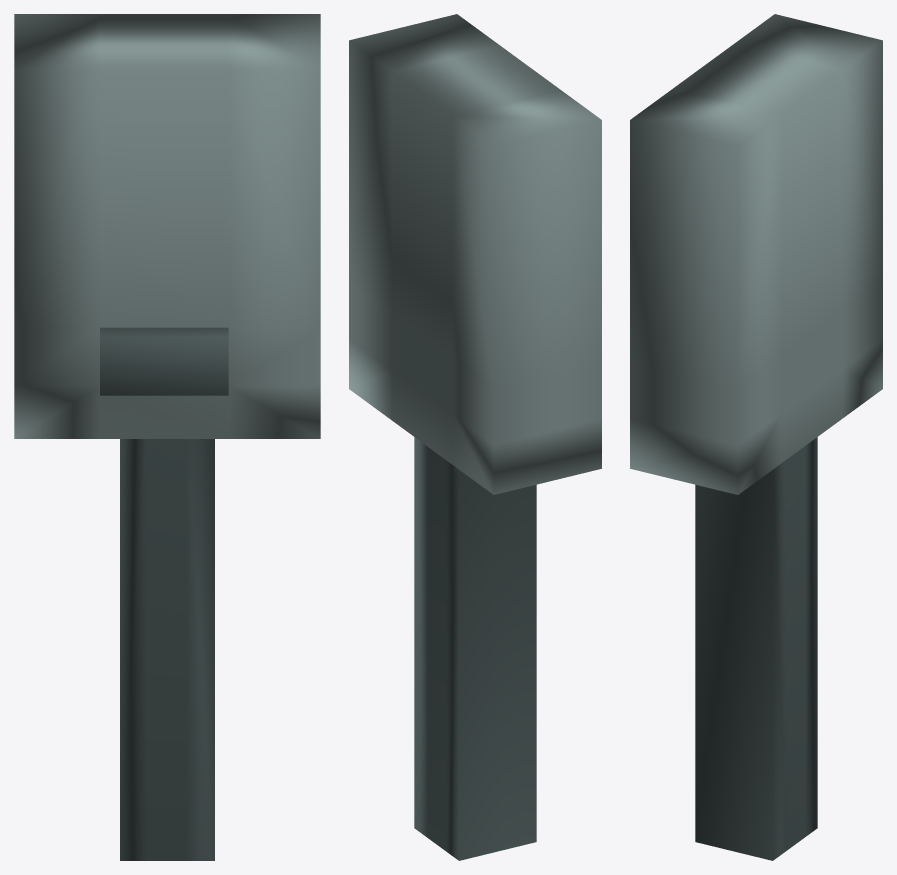
Rendered from McWilderbeest_5.fbx.
The picture shows the model from 3 angles, left to right: view 1: azimuth 30°, elevation 25°; view 2: azimuth 150°, elevation 25°; view 3: azimuth 270°, elevation 25°; orthographic projection. The views are drawn at different scales.
Visible parts, largest first — view 1: McWilderbeest_5; view 2: McWilderbeest_5; view 3: McWilderbeest_5.
Boxes of the visible parts, x1,y1,x2,y2 form: McWilderbeest_5: (14, 14, 320, 860); McWilderbeest_5: (349, 14, 601, 860); McWilderbeest_5: (630, 14, 882, 860).
Size of the model in its own units: 68.45 by 182 by 55.26.
Materials: 1 (1 with a texture image).
